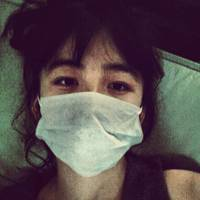face_mask: (39, 31, 142, 167)
